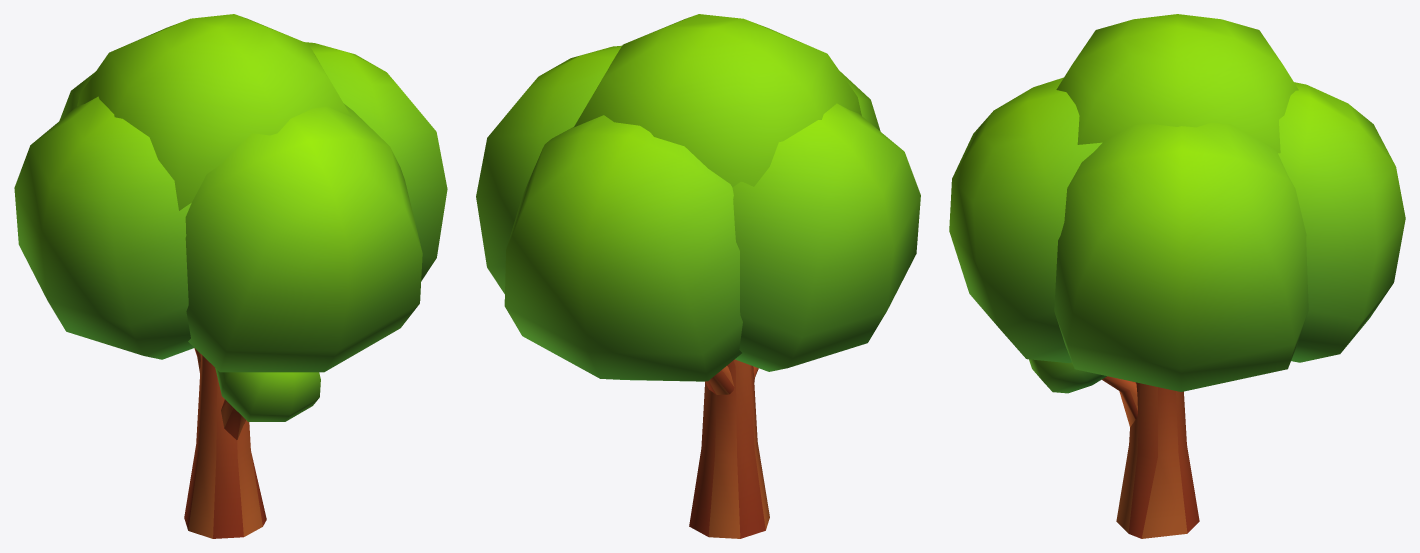
Rendered from tree.fbx.
3 renders of one model, left to right at view 1: azimuth 30°, elevation 25°; view 2: azimuth 150°, elevation 25°; view 3: azimuth 270°, elevation 25°, orthographic. The views are drawn at different scales.
Parts seen in each view (by area): view 1: Plane.003, Plane.001, Plane.006, Plane.002, Circle, Plane.005, Circle.002; view 2: Plane, Plane.001, Plane.006, Plane.002, Circle, Circle.001, Plane.003; view 3: Plane.002, Plane.003, Plane, Plane.006, Circle, Plane.005, Circle.002.
Boxes of the visible parts, x1=… form: Plane.003: x1=185, y1=104, x2=422, y2=372; Plane.001: x1=14, y1=96, x2=194, y2=359; Plane.006: x1=77, y1=14, x2=351, y2=210; Plane.002: x1=304, y1=42, x2=447, y2=280; Circle: x1=184, y1=354, x2=266, y2=538; Plane.005: x1=215, y1=368, x2=320, y2=421; Circle.002: x1=221, y1=399, x2=245, y2=439; Plane: x1=504, y1=115, x2=742, y2=381; Plane.001: x1=732, y1=103, x2=920, y2=371; Plane.006: x1=573, y1=14, x2=861, y2=187; Plane.002: x1=476, y1=45, x2=621, y2=293; Circle: x1=689, y1=359, x2=769, y2=538; Circle.001: x1=705, y1=366, x2=734, y2=394; Plane.003: x1=840, y1=71, x2=880, y2=131; Plane.002: x1=1054, y1=122, x2=1308, y2=391; Plane.003: x1=949, y1=77, x2=1102, y2=362; Plane: x1=1278, y1=82, x2=1405, y2=362; Plane.006: x1=1056, y1=14, x2=1298, y2=153; Circle: x1=1116, y1=382, x2=1199, y2=538; Plane.005: x1=1029, y1=359, x2=1106, y2=393; Circle.002: x1=1102, y1=376, x2=1137, y2=427.
Size of the model in its own units: 594 by 726 by 605.
